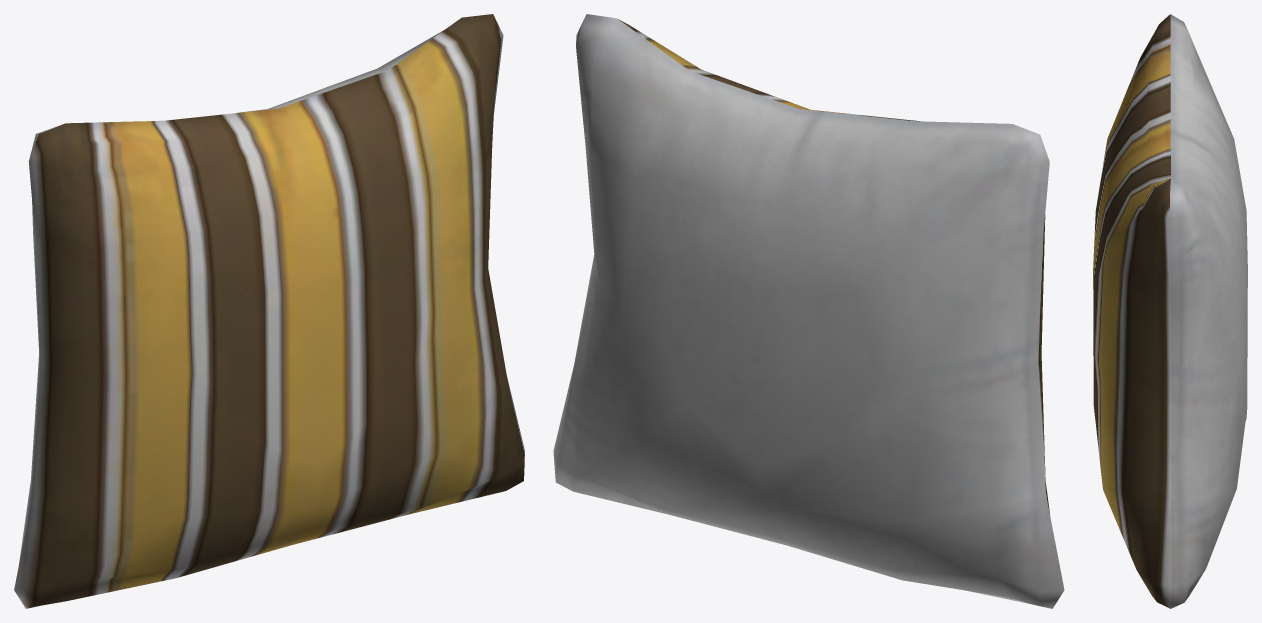
The model's file is p6_pillow_boat_01_lod1.glb.
The picture shows the model from 3 angles, left to right: view 1: azimuth 30°, elevation 25°; view 2: azimuth 150°, elevation 25°; view 3: azimuth 270°, elevation 25°; orthographic projection. The views are drawn at different scales.
Parts seen in each view (by area): view 1: surf0; view 2: surf0; view 3: surf0.
Part boxes in pixels (<box>): surf0: <box>14,14,524,608</box>; surf0: <box>553,14,1064,608</box>; surf0: <box>1093,14,1247,608</box>.
Size of the model in its own units: 21.75 by 19.9 by 6.7.
